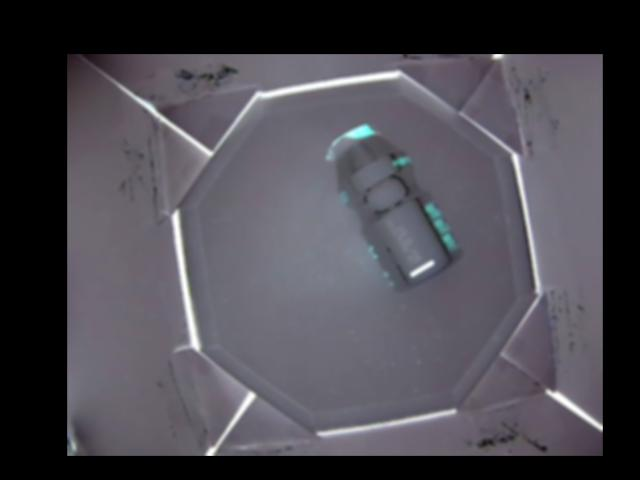Bottle: (324, 124, 461, 292)
